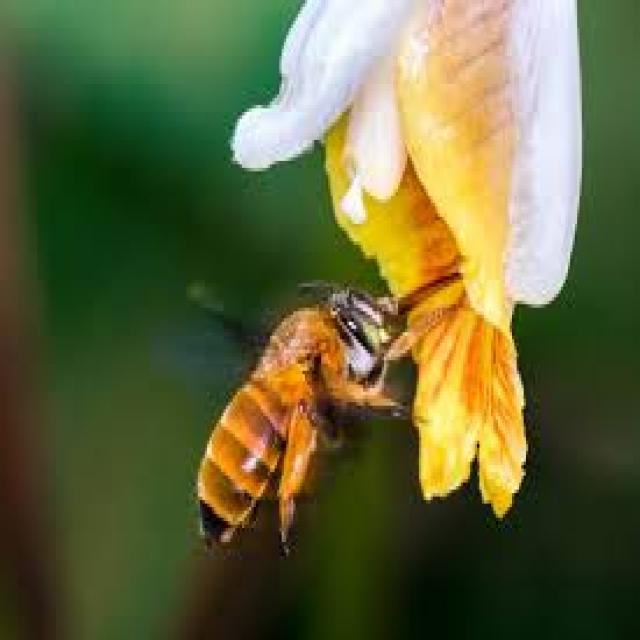Bees: (199, 258, 465, 560)
